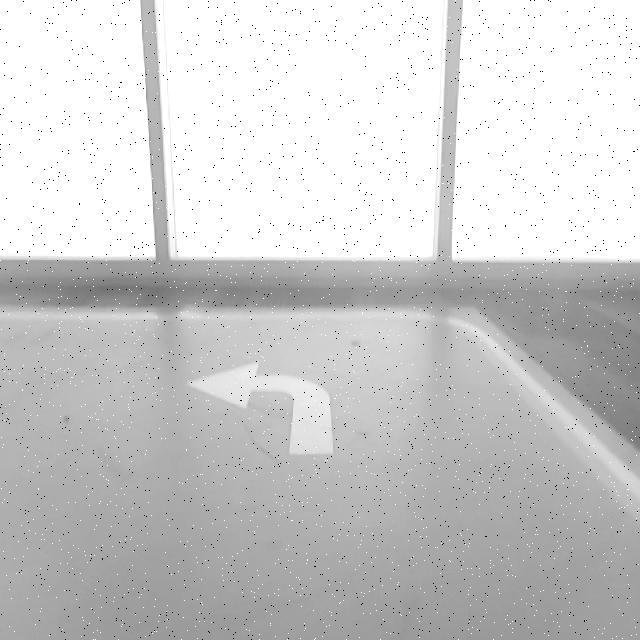right_lane: (461, 331, 640, 528)
